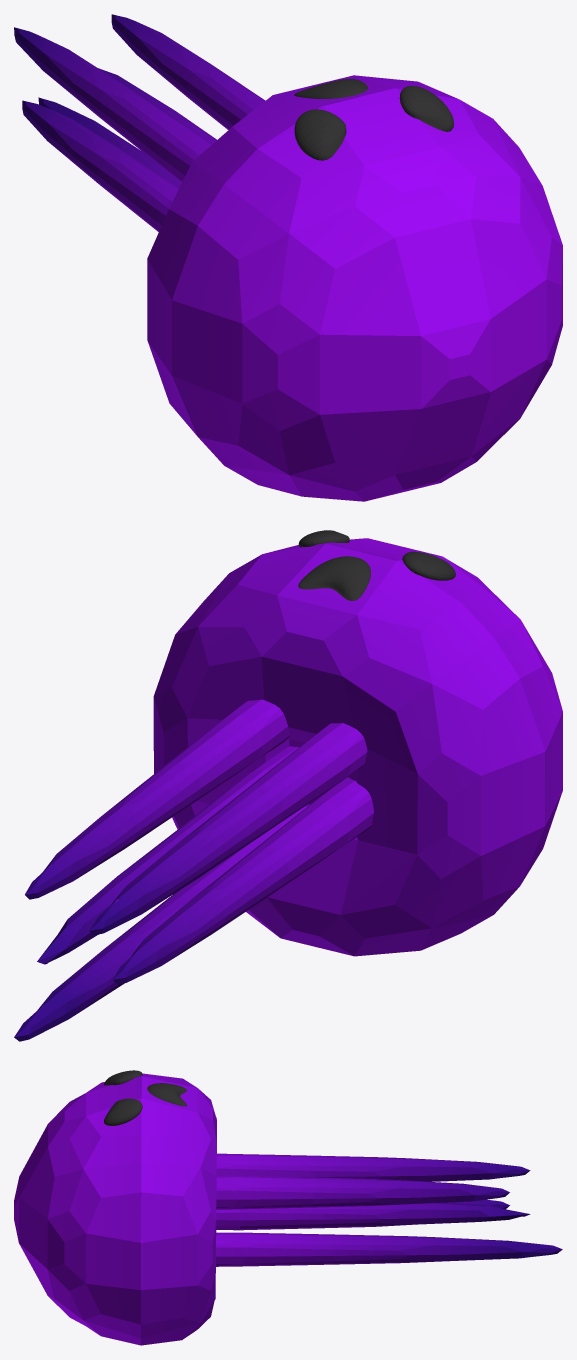
The model's file is alien03_v3.fbx.
The picture shows the model from 3 angles, top to bottom: view 1: azimuth 30°, elevation 25°; view 2: azimuth 150°, elevation 25°; view 3: azimuth 270°, elevation 25°; orthographic projection. The views are drawn at different scales.
Parts seen in each view (by area): view 1: Cylinder.002; view 2: Cylinder.002; view 3: Cylinder.002.
Part boxes in pixels (box(x1,y1,x2,y2)): Cylinder.002: box(14, 14, 562, 501); Cylinder.002: box(14, 530, 562, 1041); Cylinder.002: box(14, 1070, 562, 1345).
Bounding box in the file's own units: 195 × 195 × 397.
